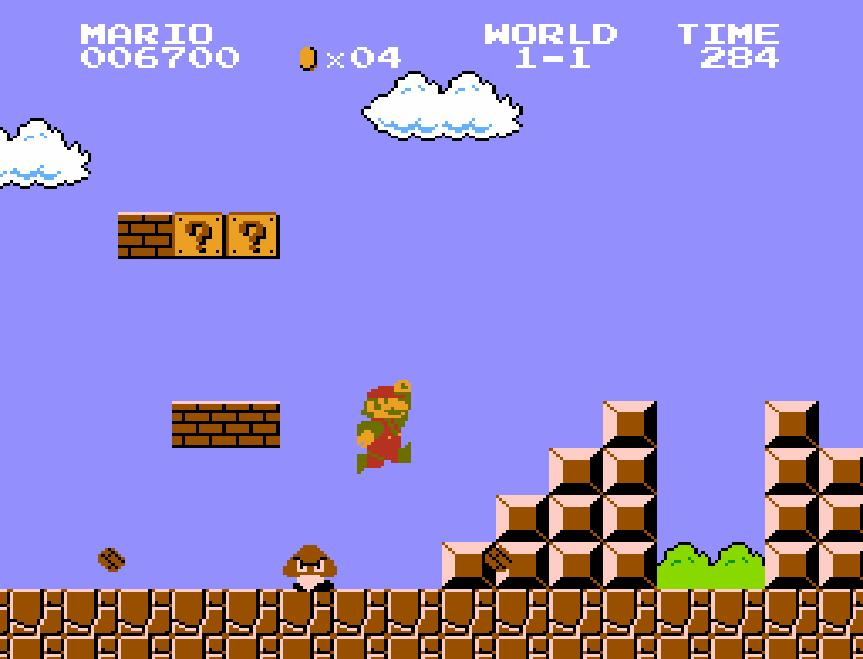big_mario: (355, 378, 413, 476)
